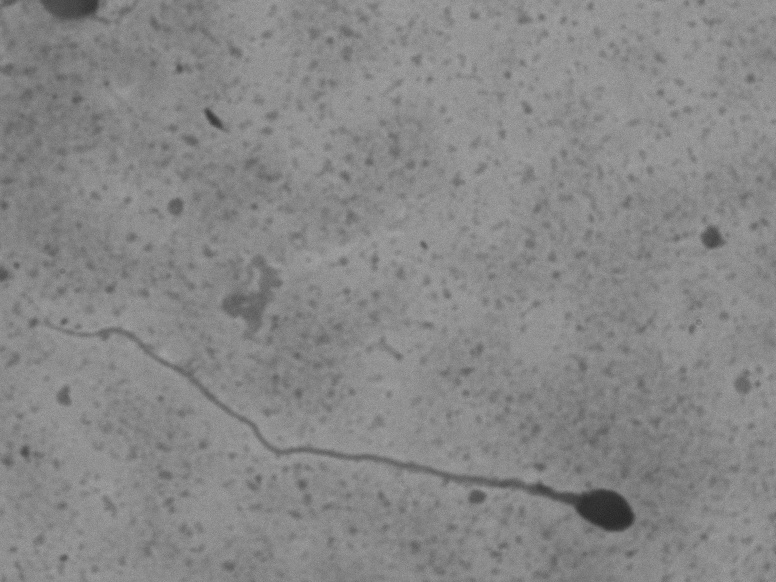Abnormal: (33, 285, 682, 565)
